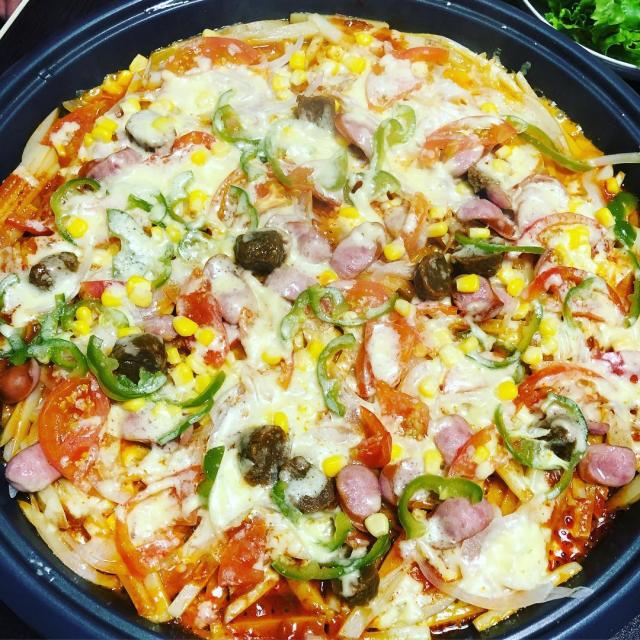pizza: (1, 14, 640, 640)
tomatoes: (111, 467, 209, 574), (345, 279, 413, 397), (35, 372, 111, 472), (545, 480, 608, 569), (205, 522, 268, 591), (510, 362, 611, 398), (346, 401, 395, 473), (1, 177, 56, 241), (164, 35, 257, 72), (519, 264, 597, 293), (49, 107, 88, 164), (174, 285, 225, 325), (3, 364, 37, 405), (172, 132, 218, 152), (77, 276, 121, 294)
